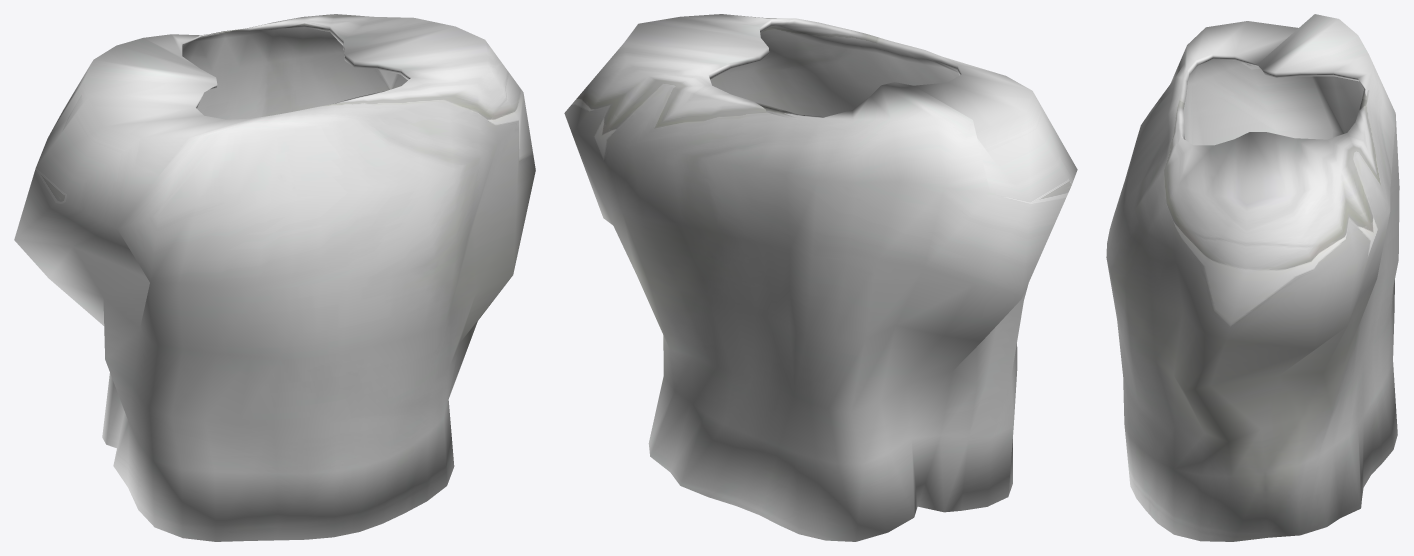
3 views of the same model, side by side, from view 1: azimuth 30°, elevation 25°; view 2: azimuth 150°, elevation 25°; view 3: azimuth 270°, elevation 25° (orthographic). The views are drawn at different scales.
Parts seen in each view (by area): view 1: garment; view 2: garment; view 3: garment.
Part boxes in pixels (box(x1,y1,x2,y2)): garment: box(14, 14, 535, 541); garment: box(564, 14, 1077, 541); garment: box(1106, 14, 1399, 541).
Bounding box in the file's own units: 0.548 × 0.4828 × 0.3223.
Materials: 1 (1 with a texture image).
